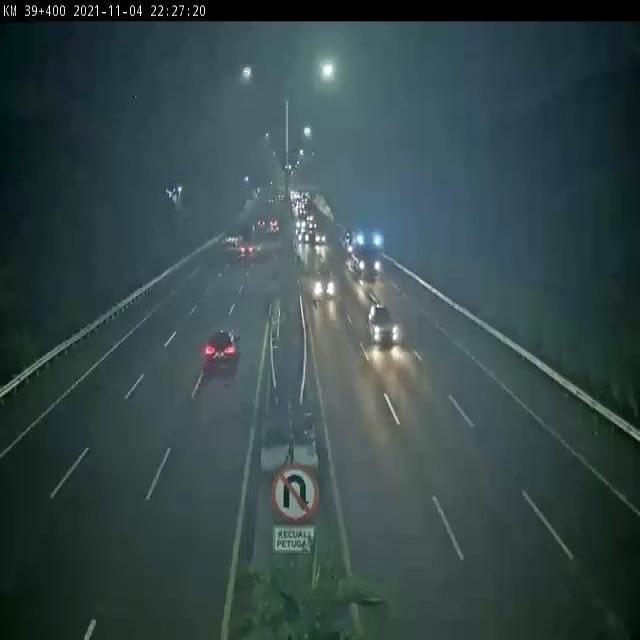car: (364, 303, 399, 345), (204, 329, 240, 368), (312, 267, 334, 297)
truck-m-: (347, 225, 386, 278), (235, 226, 256, 262)
